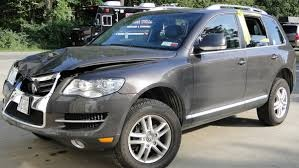Smashed: (10, 47, 130, 136)
